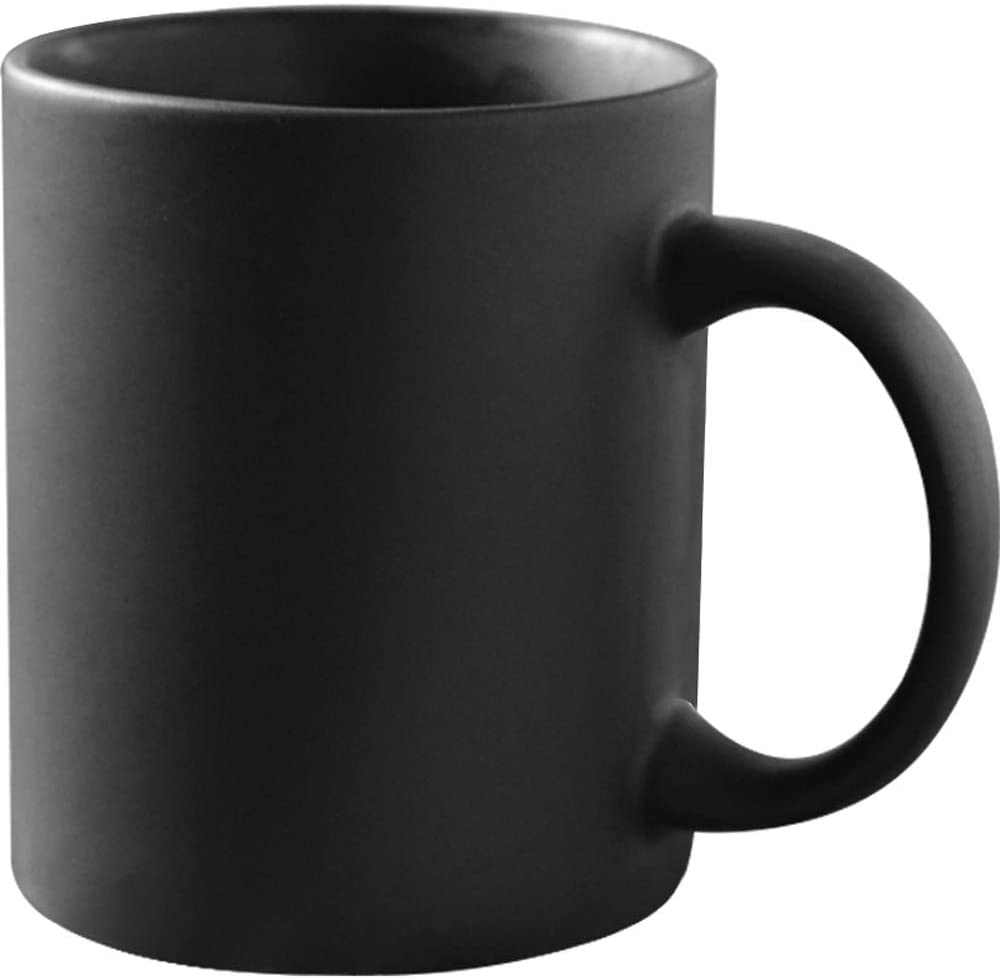gelas: (1, 20, 995, 980)
